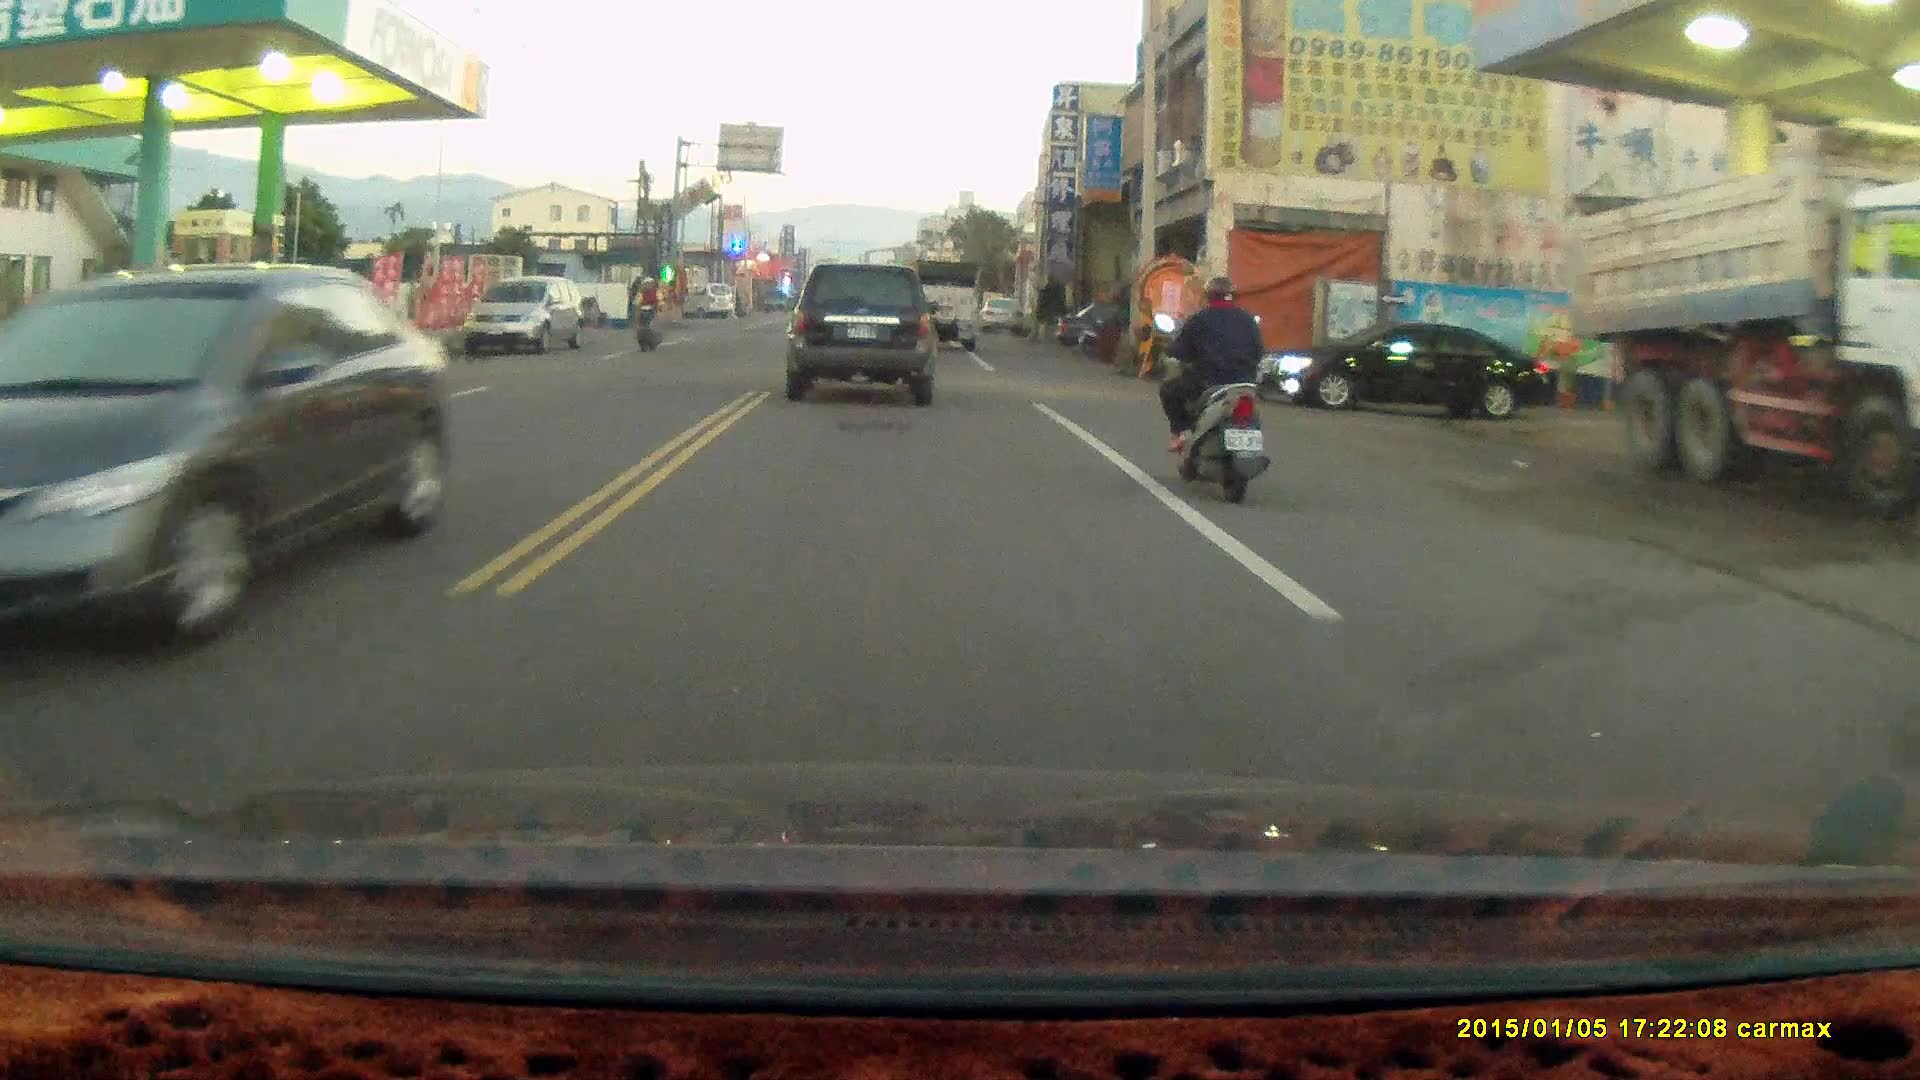rider: (1151, 275, 1268, 504), (626, 273, 663, 355)
vehicle: (1, 261, 469, 684), (1570, 127, 1920, 492), (1270, 323, 1565, 420), (790, 262, 939, 407), (464, 274, 583, 361), (909, 259, 982, 350)
